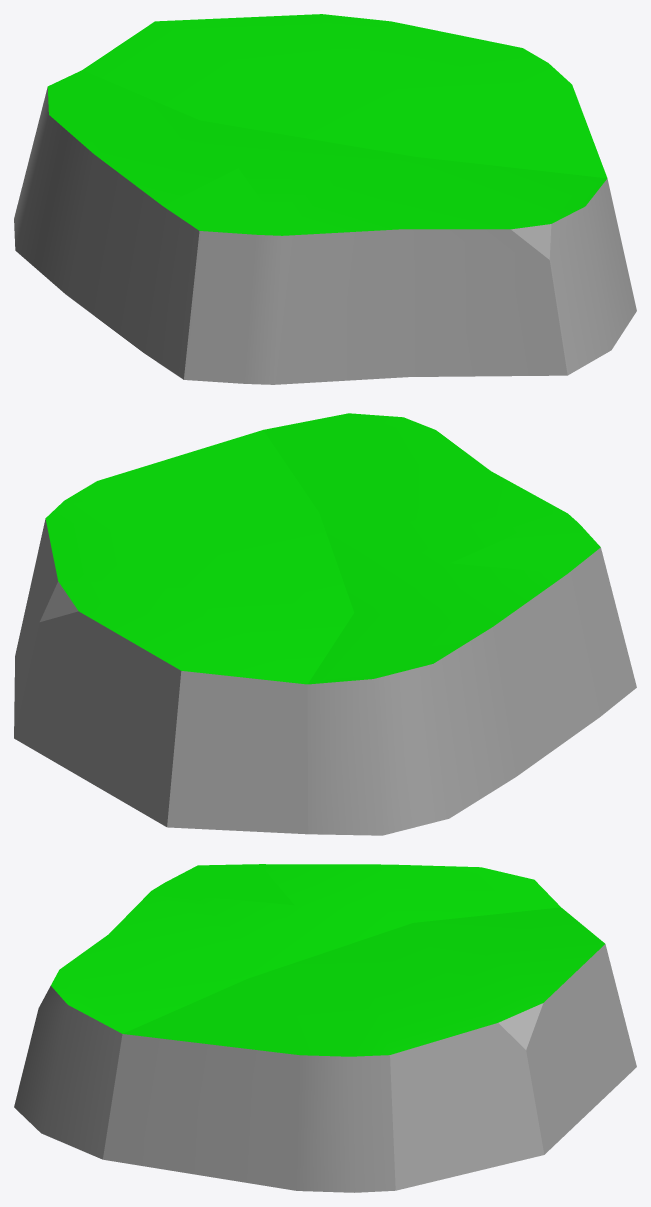
File: rock_beach_small_C.fbx
The picture shows the model from 3 angles, top to bottom: view 1: azimuth 30°, elevation 25°; view 2: azimuth 150°, elevation 25°; view 3: azimuth 270°, elevation 25°; orthographic projection. The views are drawn at different scales.
Parts seen in each view (by area): view 1: rock_beach_small_C; view 2: rock_beach_small_C; view 3: rock_beach_small_C.
Boxes of the visible parts, x1,y1,x2,y2 form: rock_beach_small_C: [14, 14, 636, 384]; rock_beach_small_C: [14, 413, 636, 835]; rock_beach_small_C: [14, 864, 636, 1192].
Size of the model in its own units: 32.36 by 8.74 by 39.4.
